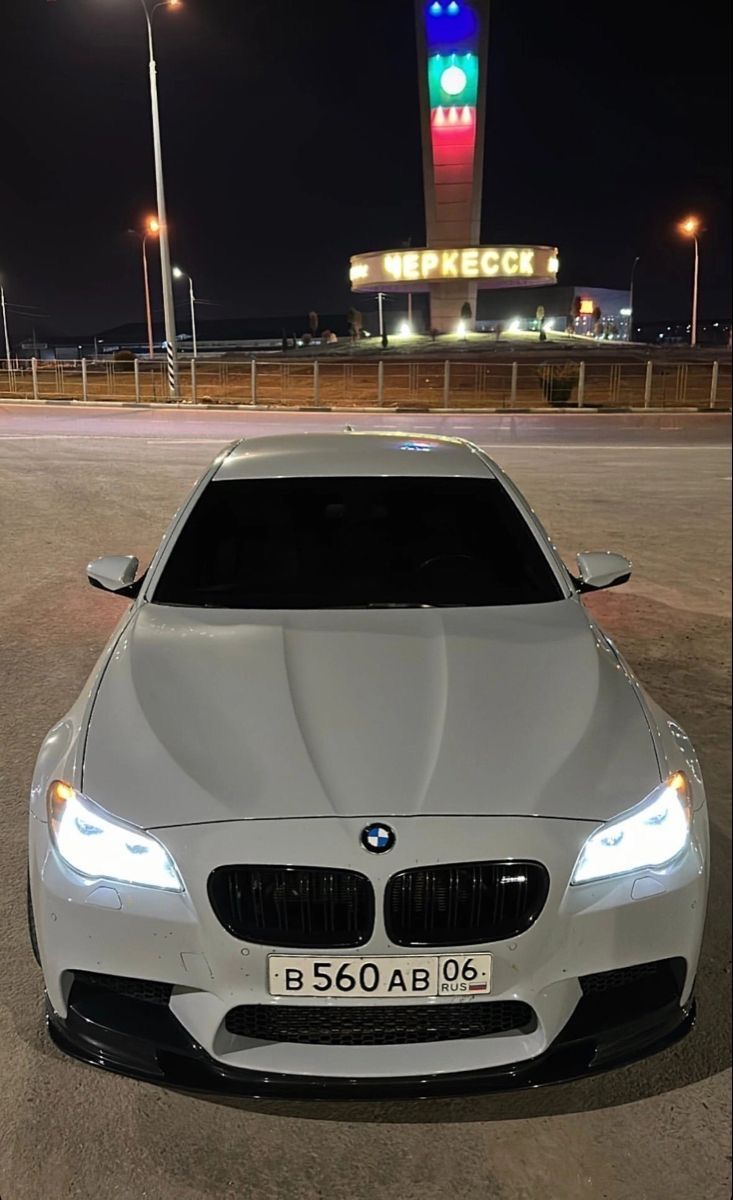plate: (264, 952, 489, 1001)
